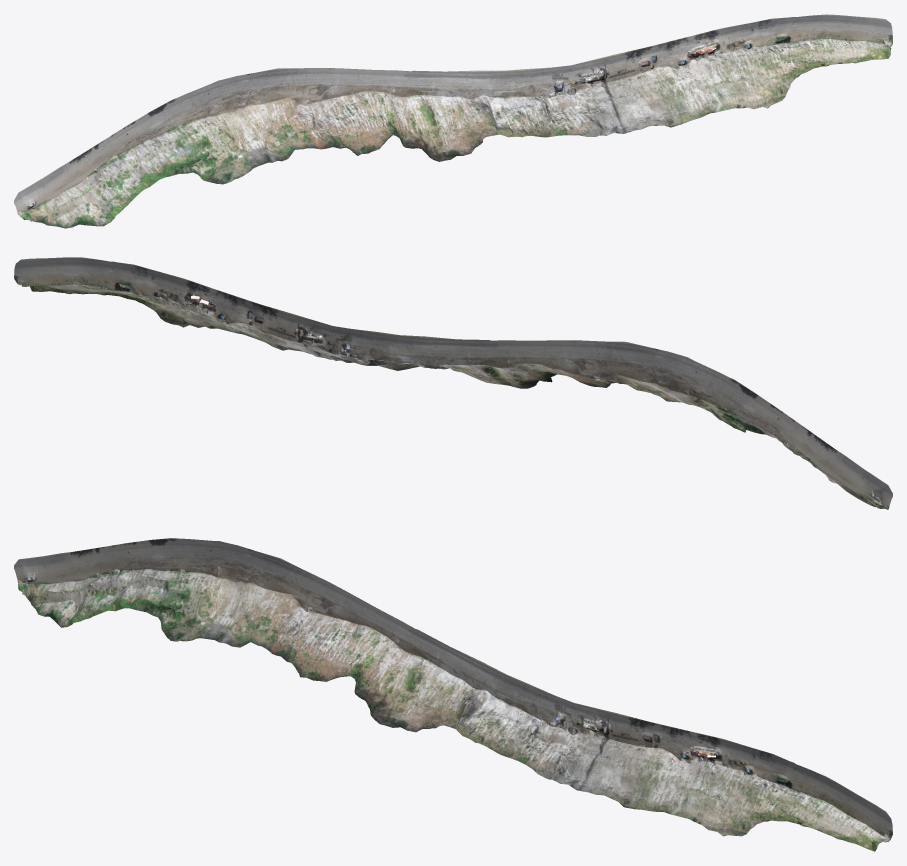
The picture shows the model from 3 angles, top to bottom: view 1: azimuth 30°, elevation 25°; view 2: azimuth 150°, elevation 25°; view 3: azimuth 330°, elevation 25°; orthographic projection. The views are drawn at different scales.
Parts seen in each view (by area): view 1: Bloco 1; view 2: Bloco 1; view 3: Bloco 1.
Part boxes in pixels (x1=…): Bloco 1: x1=14, y1=14, x2=892, y2=228; Bloco 1: x1=14, y1=257, x2=892, y2=509; Bloco 1: x1=14, y1=538, x2=892, y2=851.
Size of the model in its own units: 418 by 58.84 by 37.58.
1 material, 1 textured.
